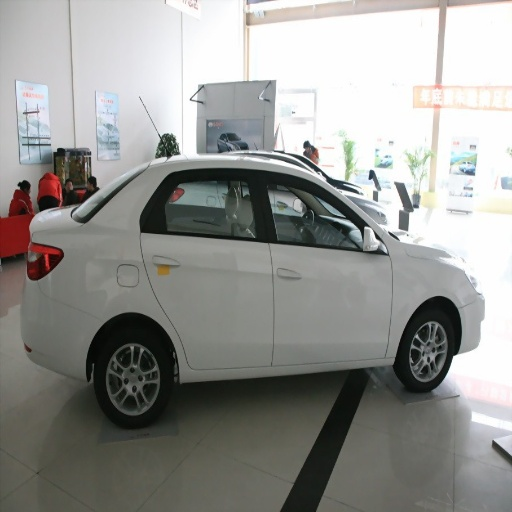back_right_door: (143, 166, 273, 368)
